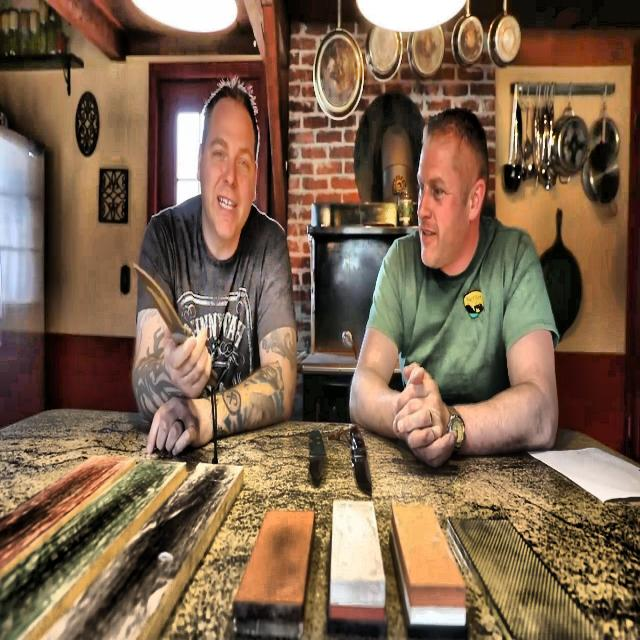knife: (133, 266, 217, 386), (349, 426, 373, 493), (309, 430, 324, 484)
